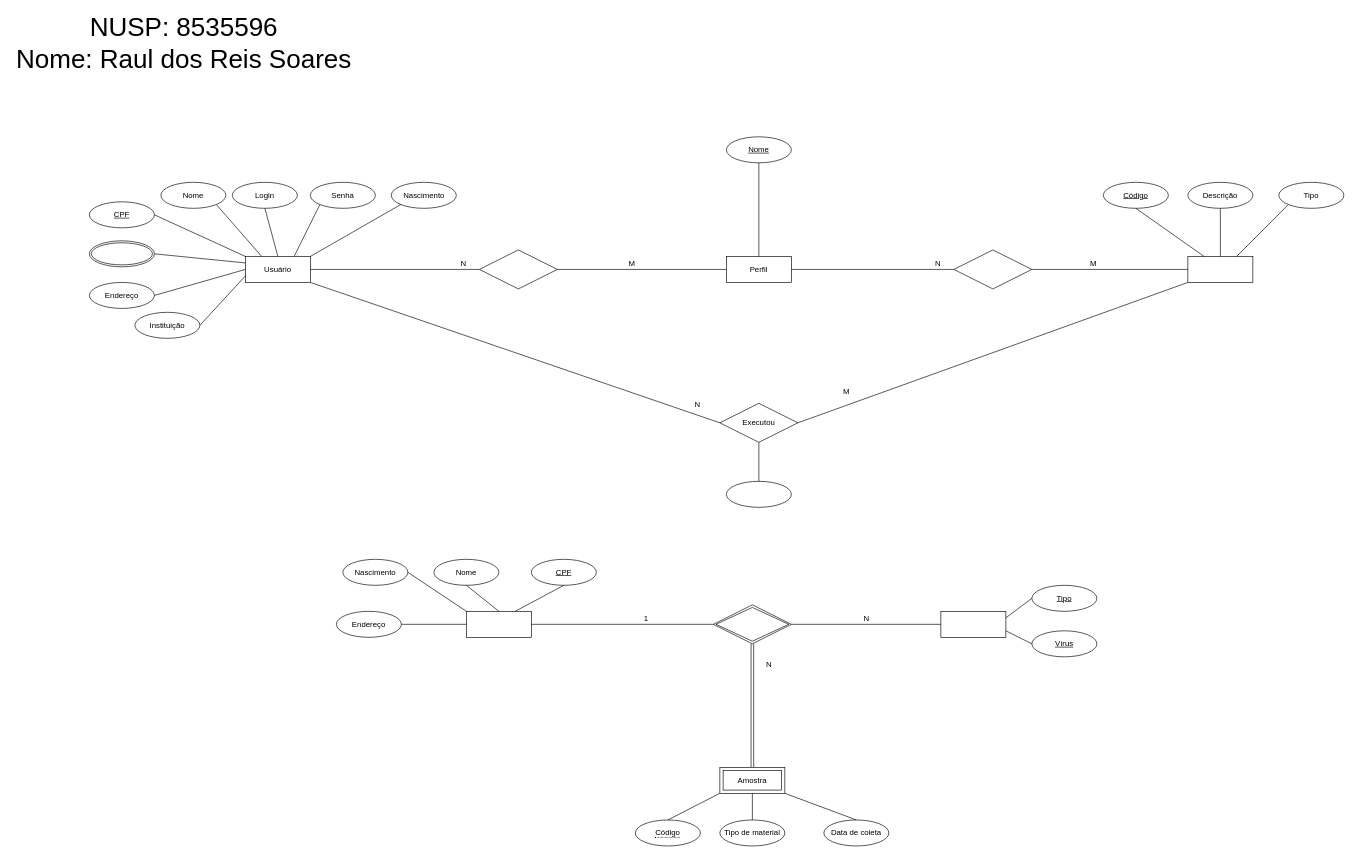
This 1355x857 diagram has some shape labels left out. Here are the shapes that lost their labels. From the top down, the centre of each, then its label:
At (x=121, y=253): "Área de Pesquisa".
At (x=518, y=269): "Possui".
At (x=992, y=269): "Acessa".
At (x=1220, y=269): "Serviço".
At (x=758, y=494): "Horário".
At (x=498, y=624): "Entity".
At (x=752, y=624): "Relationship".
At (x=973, y=624): "Exame".
